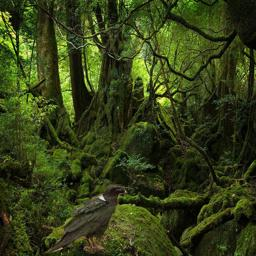Crow: (46, 184, 128, 256)
